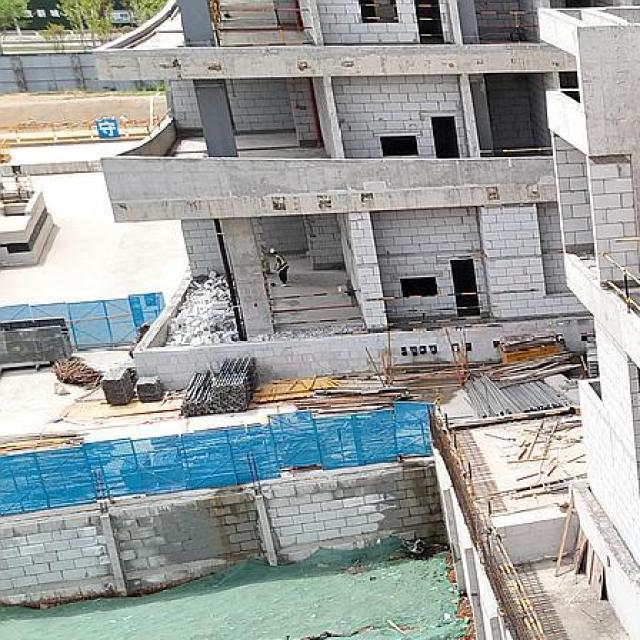Guardrail: (491, 524, 548, 640), (366, 292, 487, 327), (269, 290, 362, 326), (443, 414, 474, 495), (603, 254, 640, 314), (476, 10, 537, 36), (416, 3, 441, 37), (360, 3, 399, 21), (481, 147, 552, 154)
